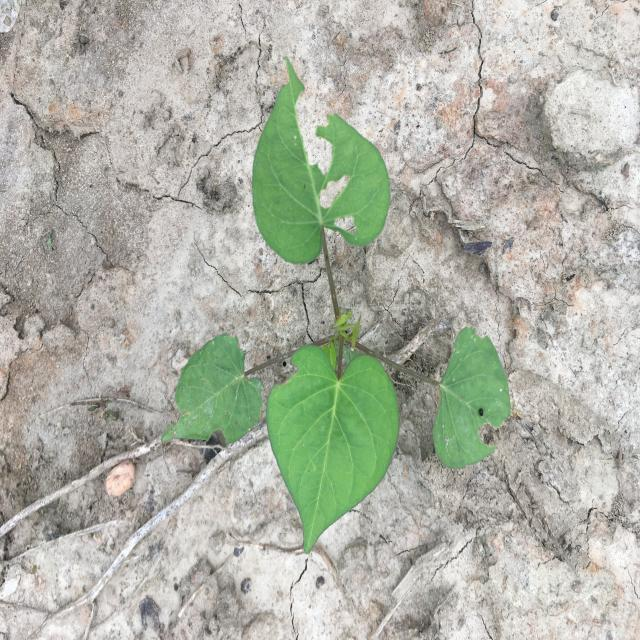MorningGlory: (161, 56, 511, 555)
